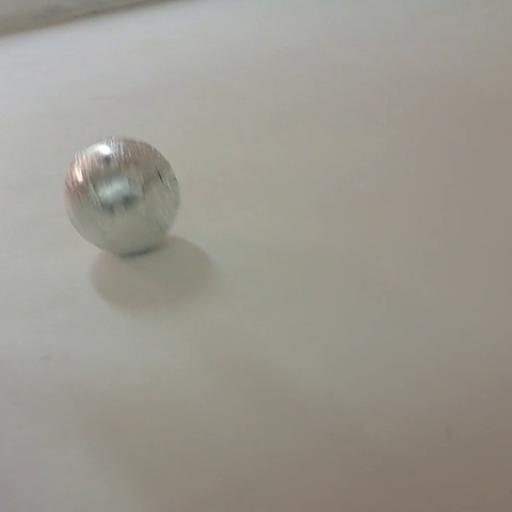alive: (59, 131, 189, 263)
